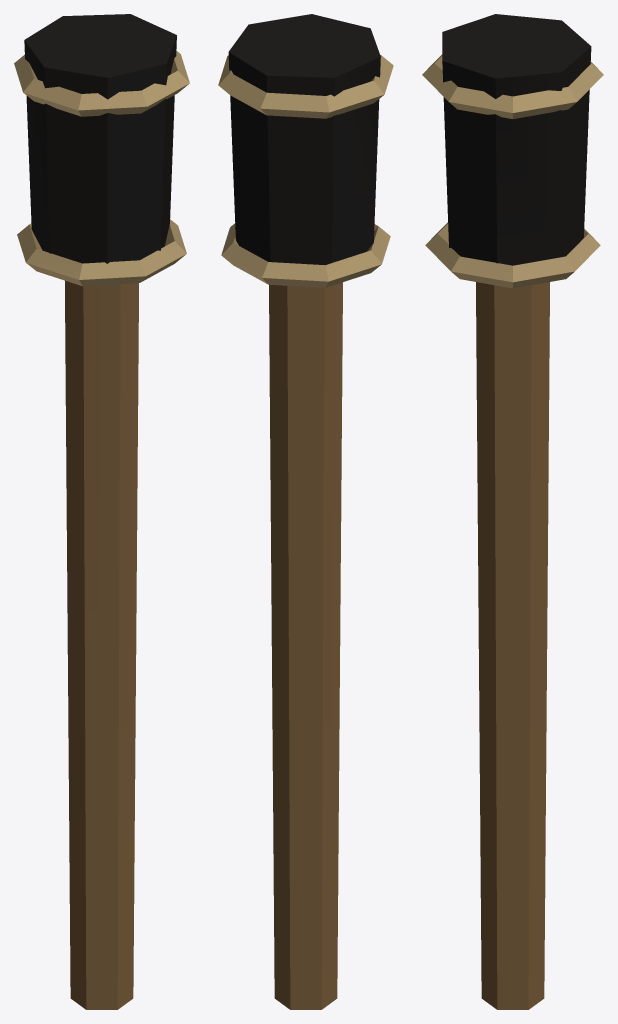
The model's file is Torch.fbx.
The picture shows the model from 3 angles, left to right: view 1: azimuth 30°, elevation 25°; view 2: azimuth 150°, elevation 25°; view 3: azimuth 270°, elevation 25°; orthographic projection.
Parts seen in each view (by area): view 1: Torch; view 2: Torch; view 3: Torch.
Part boxes in pixels (bbox=[...]): Torch: bbox=[14, 14, 189, 1009]; Torch: bbox=[218, 14, 393, 1009]; Torch: bbox=[422, 14, 603, 1009].
Bounding box in the file's own units: 0.116 × 0.67 × 0.116.
